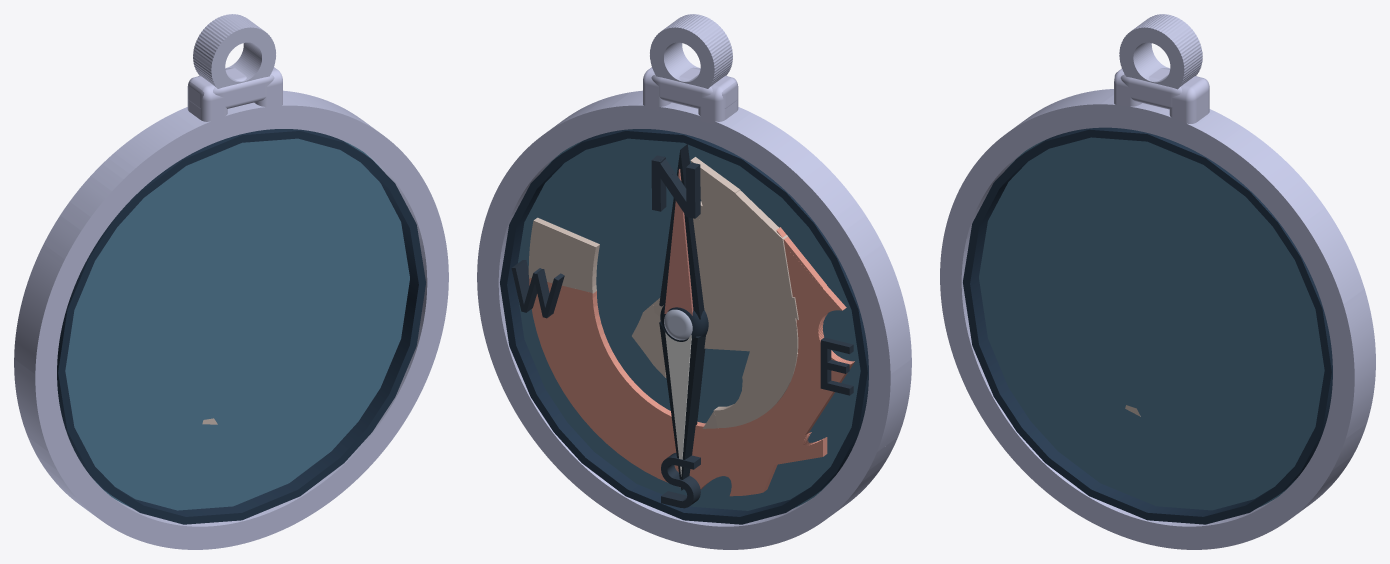
The model's file is 3D-MAGNET-COMPASS.glb.
3 renders of one model, left to right at view 1: azimuth 30°, elevation 25°; view 2: azimuth 150°, elevation 25°; view 3: azimuth 330°, elevation 25°, orthographic.
Parts seen in each view (by area): view 1: Node20, Node19, Node18, Node5, Node7, Node6, Node8; view 2: Node19, Node20, Node10, Node9, Node18, Node5, Node14, Node3, Node15, Node17, Node13, Node4 (+8 smaller); view 3: Node20, Node19, Node18, Node5, Node8, Node7, Node6.
Boxes of the visible parts, x1=… form: Node20: x1=65, y1=138, x2=409, y2=510; Node19: x1=14, y1=90, x2=448, y2=549; Node18: x1=57, y1=129, x2=425, y2=524; Node5: x1=193, y1=14, x2=275, y2=88; Node7: x1=188, y1=67, x2=274, y2=108; Node6: x1=187, y1=76, x2=227, y2=121; Node8: x1=254, y1=67, x2=282, y2=106; Node19: x1=477, y1=90, x2=911, y2=549; Node20: x1=518, y1=138, x2=860, y2=510; Node10: x1=529, y1=227, x2=854, y2=496; Node9: x1=632, y1=157, x2=798, y2=428; Node18: x1=500, y1=129, x2=868, y2=524; Node5: x1=650, y1=14, x2=732, y2=88; Node14: x1=528, y1=217, x2=599, y2=293; Node3: x1=659, y1=321, x2=705, y2=490; Node15: x1=651, y1=155, x2=700, y2=218; Node17: x1=664, y1=169, x2=693, y2=315; Node13: x1=659, y1=144, x2=704, y2=319; Node4: x1=665, y1=332, x2=691, y2=476; Node20: x1=979, y1=137, x2=1324, y2=510; Node19: x1=940, y1=89, x2=1375, y2=549; Node18: x1=963, y1=127, x2=1332, y2=524; Node5: x1=1119, y1=14, x2=1202, y2=89; Node8: x1=1169, y1=76, x2=1209, y2=123; Node7: x1=1114, y1=68, x2=1196, y2=109; Node6: x1=1114, y1=68, x2=1141, y2=106.
Size of the model in its own units: 5.73 by 6.81 by 0.7889.
